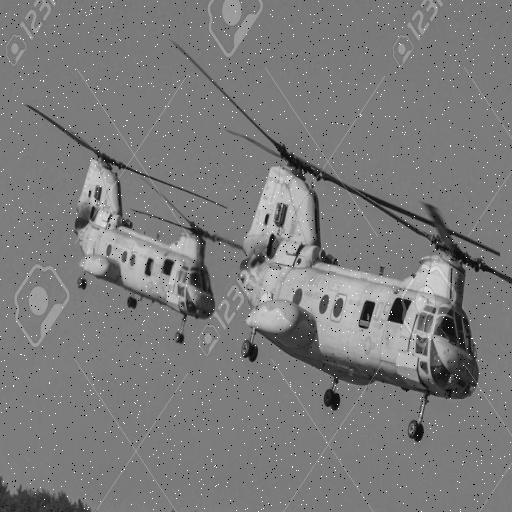helicopter: (175, 43, 512, 451), (24, 109, 246, 343)
